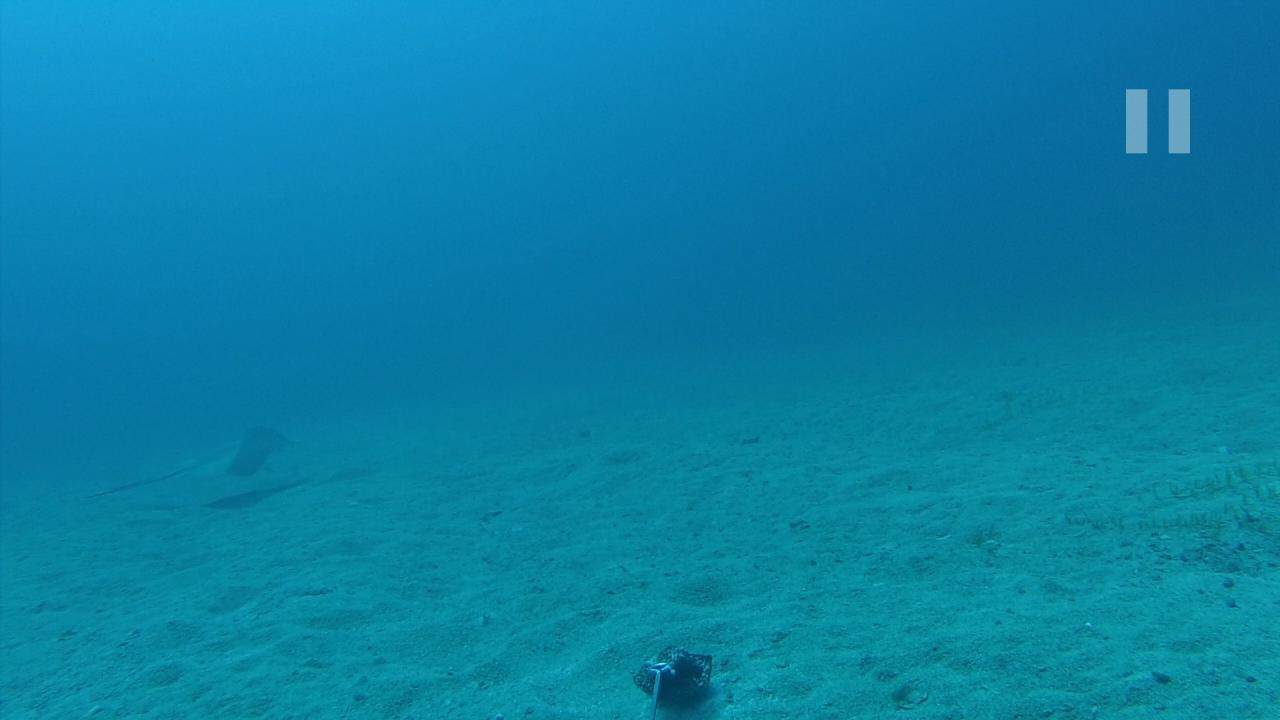dasyatis: (82, 420, 292, 502)
